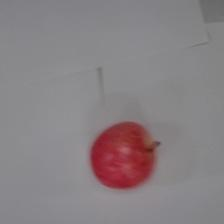red: (88, 121, 164, 192)
